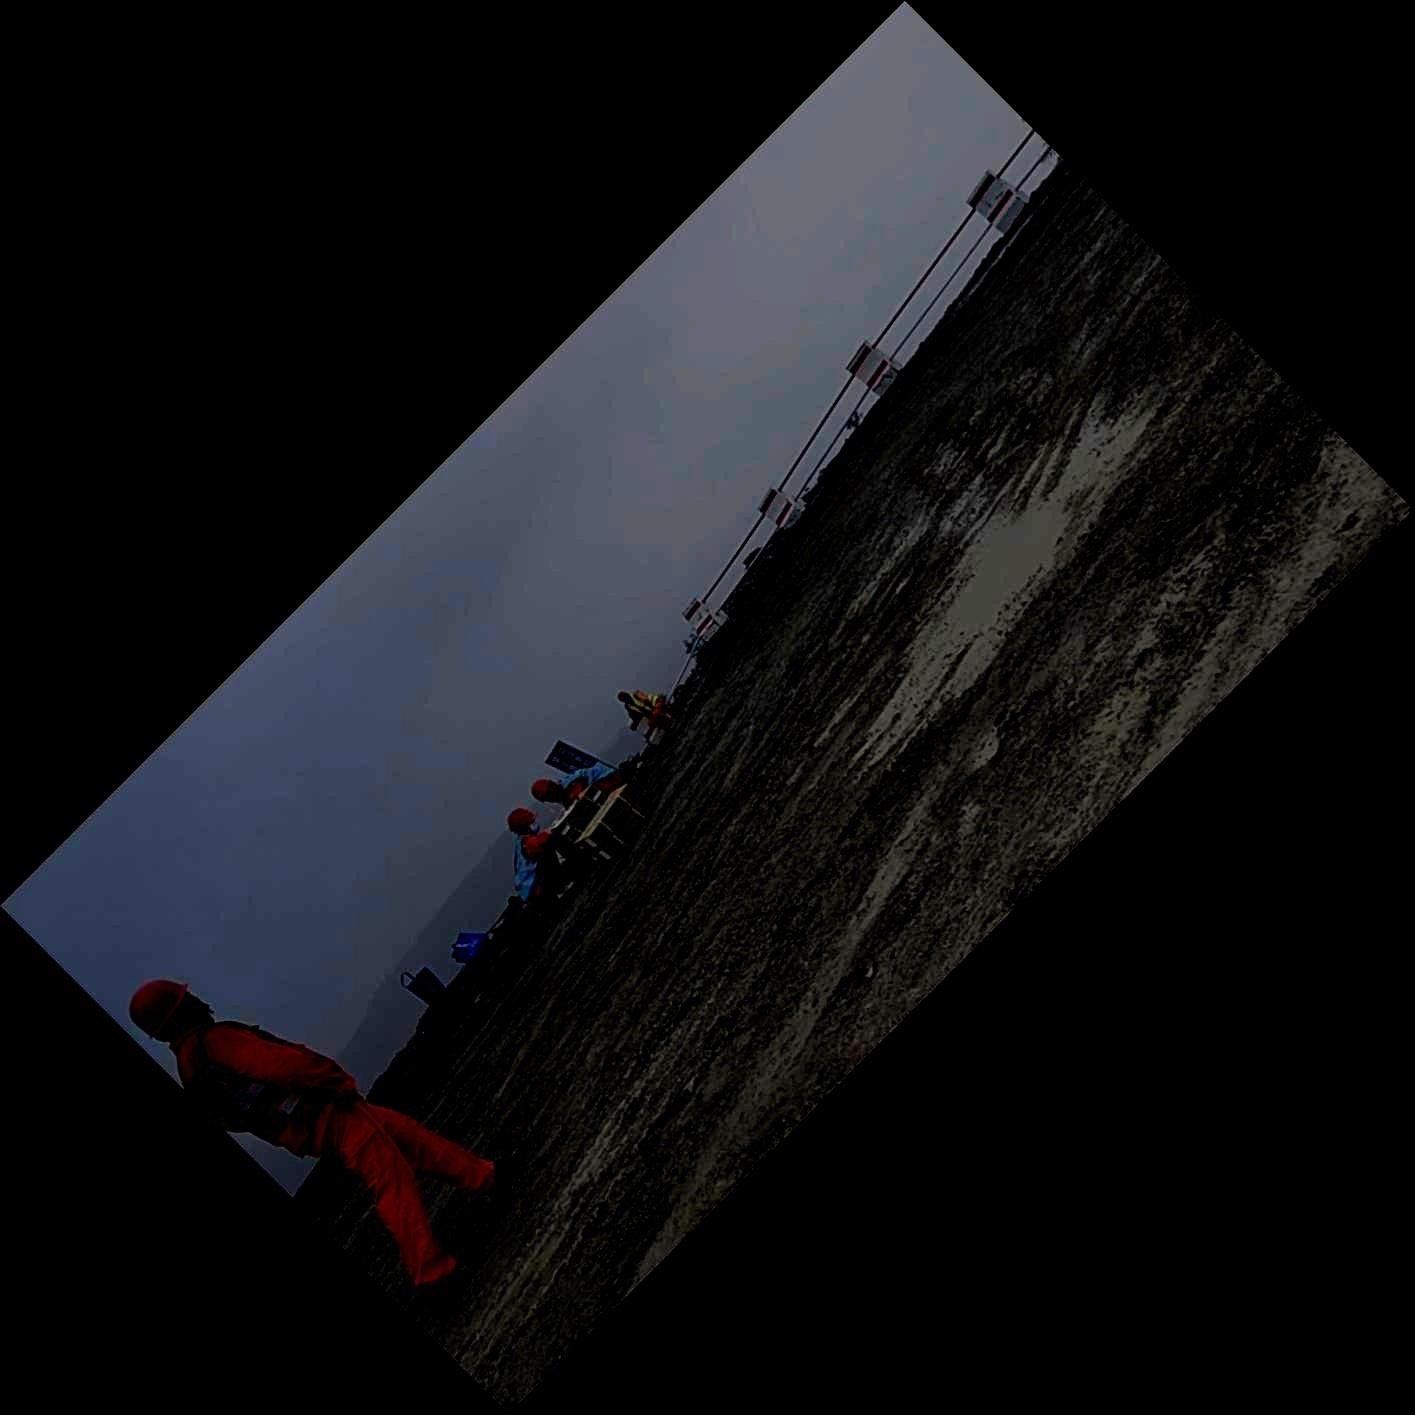helmet: (128, 978, 215, 1044), (505, 807, 540, 837), (530, 777, 564, 803)
